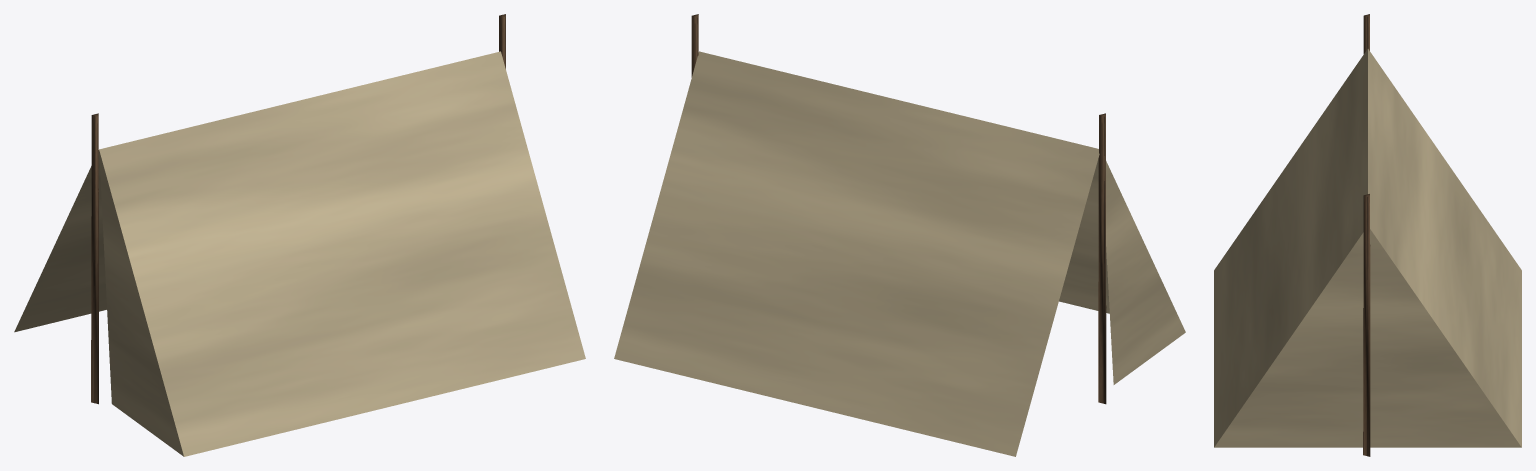
The model's file is Tent_Pilgrim_1_LOD2.gltf.
The picture shows the model from 3 angles, left to right: view 1: azimuth 30°, elevation 25°; view 2: azimuth 150°, elevation 25°; view 3: azimuth 270°, elevation 25°; orthographic projection. The views are drawn at different scales.
Visible parts, largest first — view 1: Tent_Pilgrim_1_LOD2; view 2: Tent_Pilgrim_1_LOD2; view 3: Tent_Pilgrim_1_LOD2.
Part boxes in pixels (x1,y1,x2,y2): Tent_Pilgrim_1_LOD2: [14, 14, 585, 456]; Tent_Pilgrim_1_LOD2: [614, 14, 1185, 456]; Tent_Pilgrim_1_LOD2: [1214, 14, 1521, 456].
Bounding box in the file's own units: 4.65 × 3.07 × 3.3.
2 materials, 2 textured.
